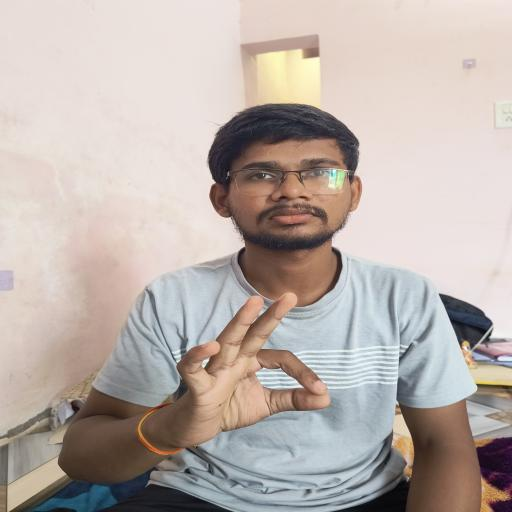Previous: (153, 282, 354, 462)
